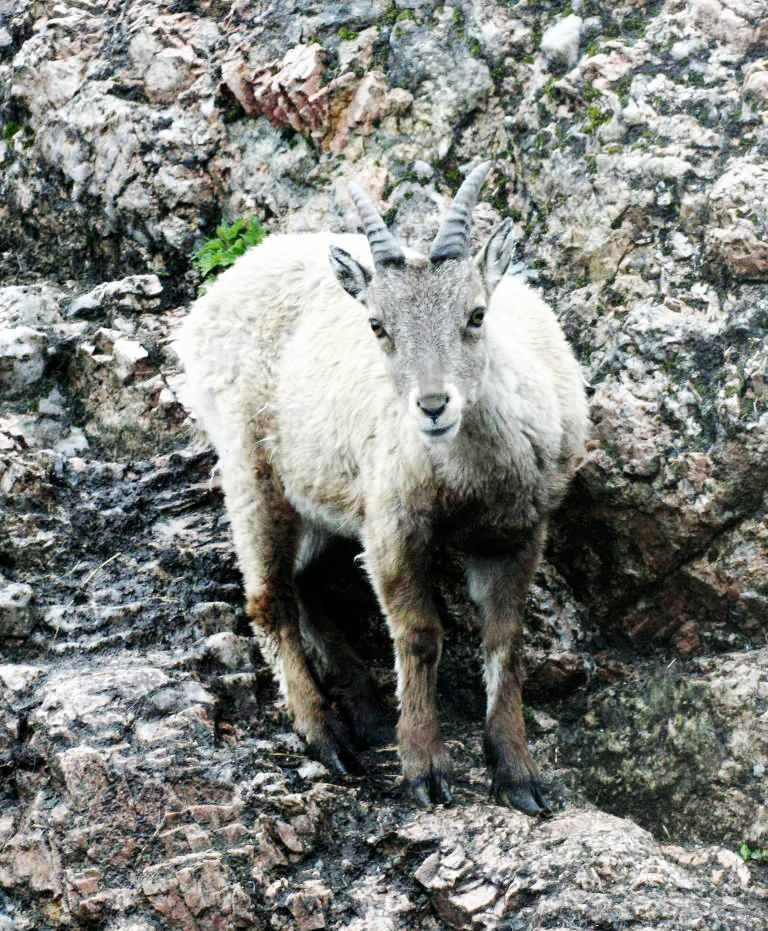Sheep: (178, 160, 590, 818)
